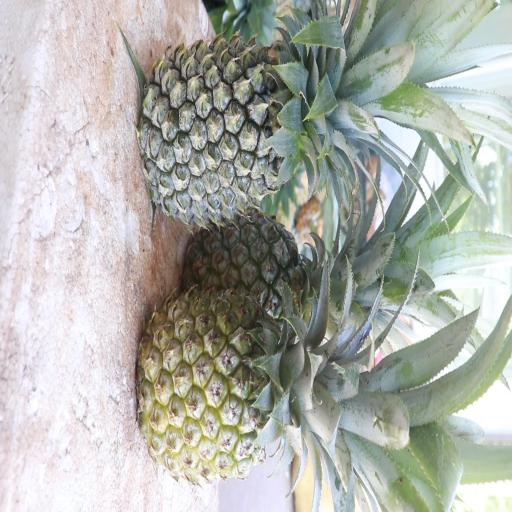------------------------------: (137, 277, 375, 487), (179, 204, 379, 354)
